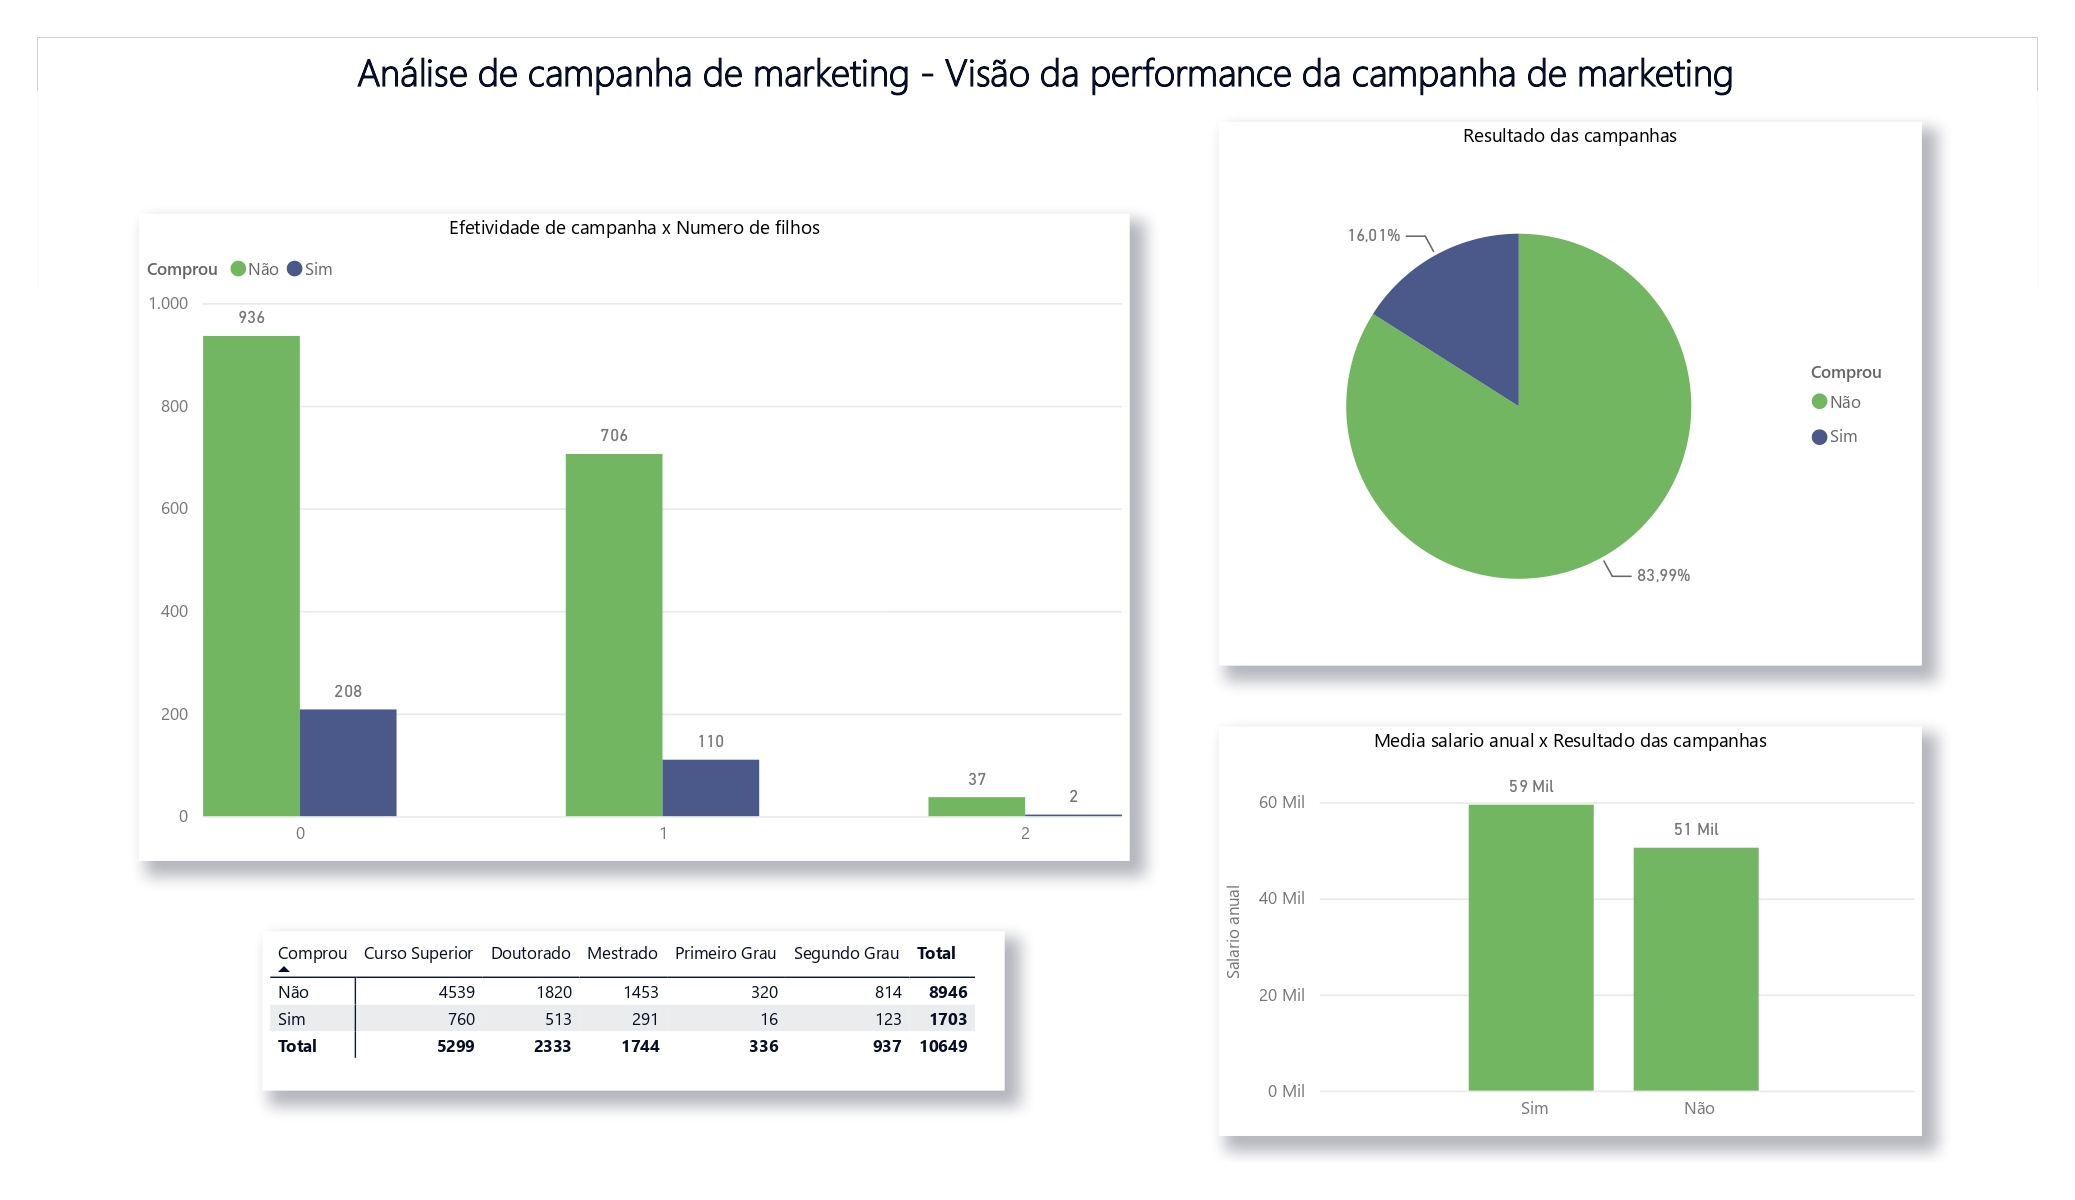

The dashboard page shown, as its layout file describes it:
{"tool":"powerbi","page":{"name":"Visão campanhas","canvas":[1280,720],"ordinal":2},"visuals":[{"type":"textbox","box":[10.3,0,1269.7,54.4],"z":0},{"type":"pieChart","title":"Resultado das campanhas","fields":{"Y":["CountNonNull(dadosmarketing.ID)"],"Category":["dadosmarketing.Comprou"]},"box":[756.2,54.4,450.2,347.2],"z":1},{"type":"columnChart","title":"Media salario anual x Resultado das campanhas","fields":{"Category":["dadosmarketing.Comprou"],"Y":["Avg(dadosmarketing.Salario Anual)"]},"box":[756.2,441.4,450.2,261.9],"z":2},{"type":"pivotTable","fields":{"Rows":["dadosmarketing.Comprou","dadosmarketing.Estado Civil","dadosmarketing.Pais"],"Values":["Sum(dadosmarketing.Numero Visitas WebSite Mes)"],"Columns":["dadosmarketing.Escolaridade"]},"box":[144.2,572.3,475.2,101.5],"z":3},{"type":"clusteredColumnChart","title":"Efetividade de campanha x Numero de filhos ","fields":{"Category":["dadosmarketing.Filhos em Casa"],"Series":["dadosmarketing.Comprou"],"Y":["CountNonNull(dadosmarketing.Filhos em Casa)"]},"box":[64.7,113.3,634.1,413.4],"z":4}]}

Visuals, with their boxes on the page's 1280x720 design canvas (x1, y1, x2, y2). These are canvas units, not pixel positions in the 2075x1200 screenshot, which may show the page scaled, cropped or inside an application window:
textbox: 10 0 1280 54
"Resultado das campanhas" pieChart: 756 54 1206 402
"Media salario anual x Resultado das campanhas" columnChart: 756 441 1206 703
pivotTable - dadosmarketing.Comprou x dadosmarketing.Estado Civil: 144 572 619 674
"Efetividade de campanha x Numero de filhos " clusteredColumnChart: 65 113 699 527
